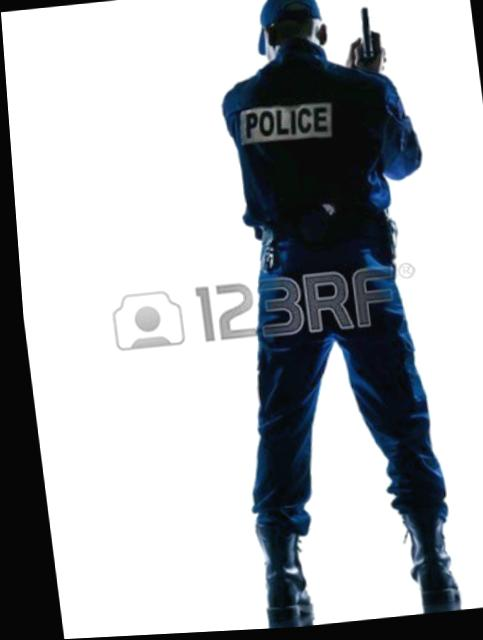pistol: (354, 7, 374, 65)
